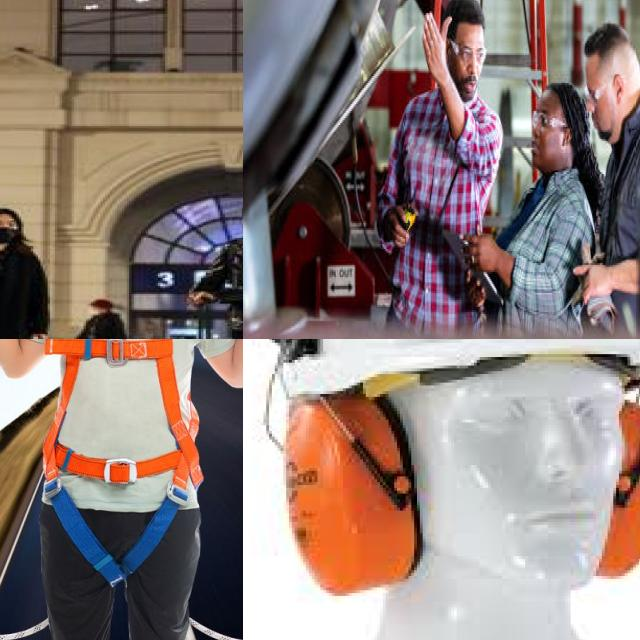Ear-protection: (275, 391, 428, 596), (593, 391, 640, 576)
Harness: (40, 339, 199, 551)
No_Ear-Protection: (561, 126, 572, 148), (614, 75, 624, 99), (446, 38, 454, 62)
face_mask: (0, 218, 16, 241)
face_nomask: (446, 43, 481, 102), (586, 87, 615, 142), (531, 127, 562, 173)
glasses: (450, 40, 486, 65), (532, 112, 568, 128), (584, 83, 607, 105)
hand_noglove: (574, 259, 640, 301), (469, 233, 515, 288), (422, 14, 451, 83), (384, 204, 410, 248)
head_helmet: (268, 339, 640, 402)
head_nohelmet: (546, 83, 602, 222), (584, 22, 631, 57), (444, 0, 484, 40), (0, 199, 16, 217)
person: (0, 188, 83, 339)
